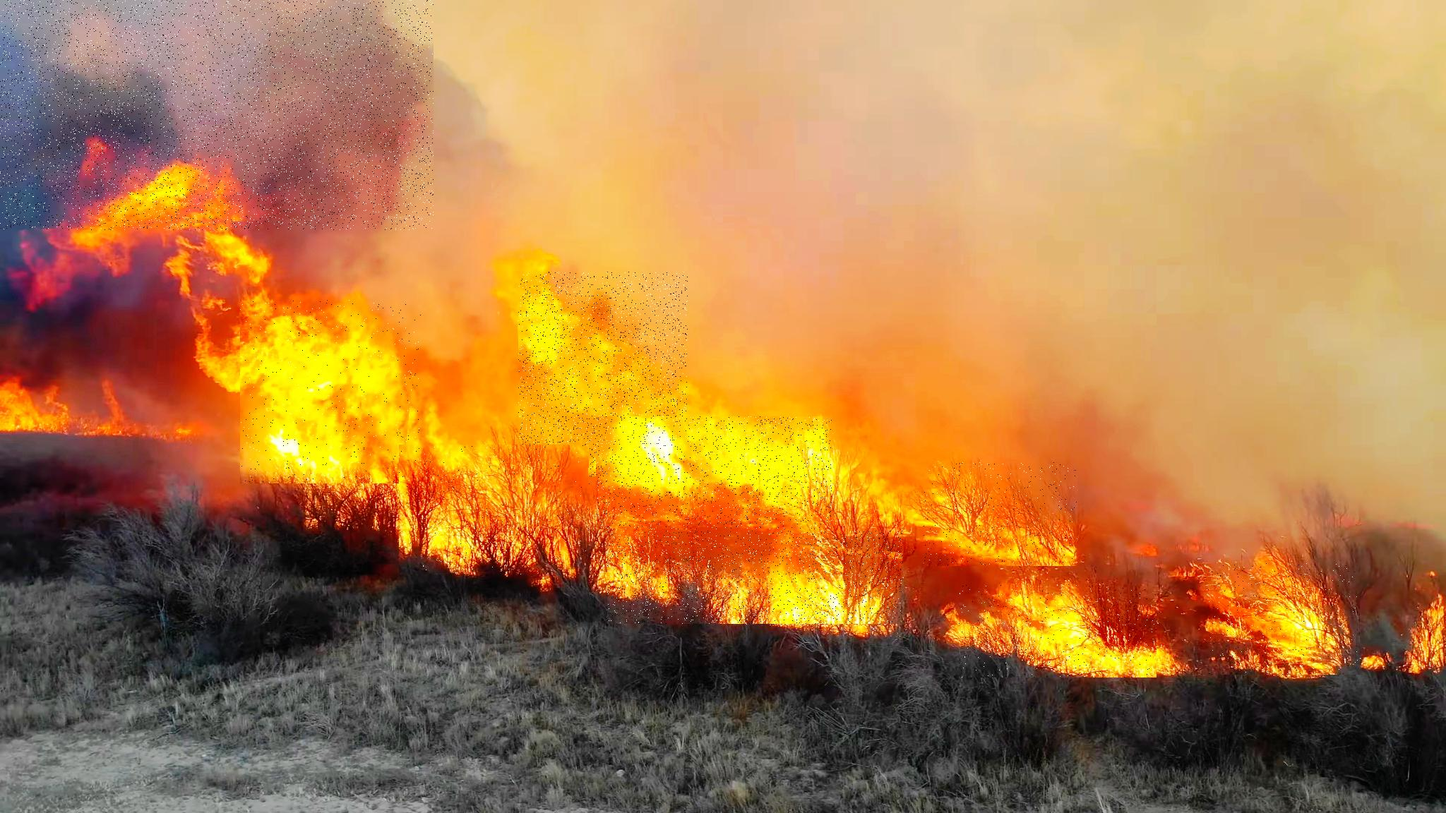fire: (518, 272, 688, 476), (240, 300, 421, 483), (607, 531, 902, 624), (596, 416, 832, 529), (399, 445, 590, 574), (959, 584, 1157, 678), (1207, 563, 1360, 675), (923, 462, 1077, 566), (739, 533, 895, 625)
smoke: (0, 0, 433, 230)
